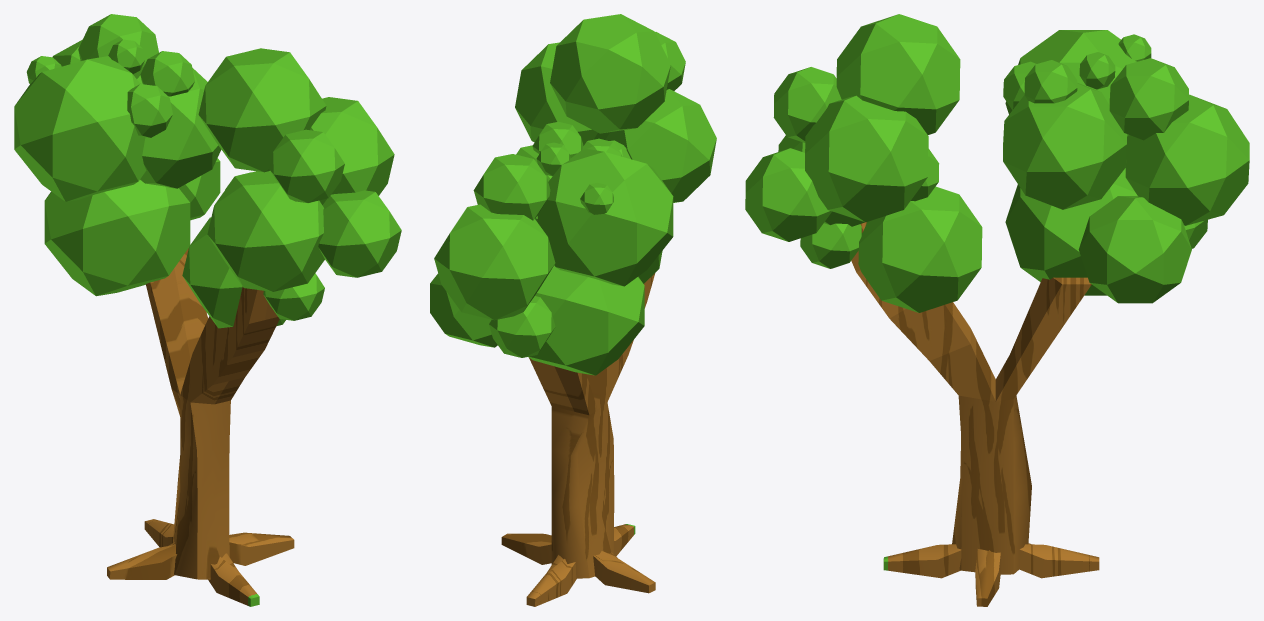
Rendered from MS_Tree_02.fbx.
The picture shows the model from 3 angles, left to right: view 1: azimuth 30°, elevation 25°; view 2: azimuth 150°, elevation 25°; view 3: azimuth 270°, elevation 25°; orthographic projection. The views are drawn at different scales.
Parts seen in each view (by area): view 1: Line005; view 2: Line005; view 3: Line005.
Boxes of the visible parts, left/top/right/bottom form: Line005: left=14, top=14, right=401, bottom=606; Line005: left=430, top=14, right=716, bottom=606; Line005: left=745, top=14, right=1249, bottom=606.
Bounding box in the file's own units: 1492 × 3007 × 2467.
